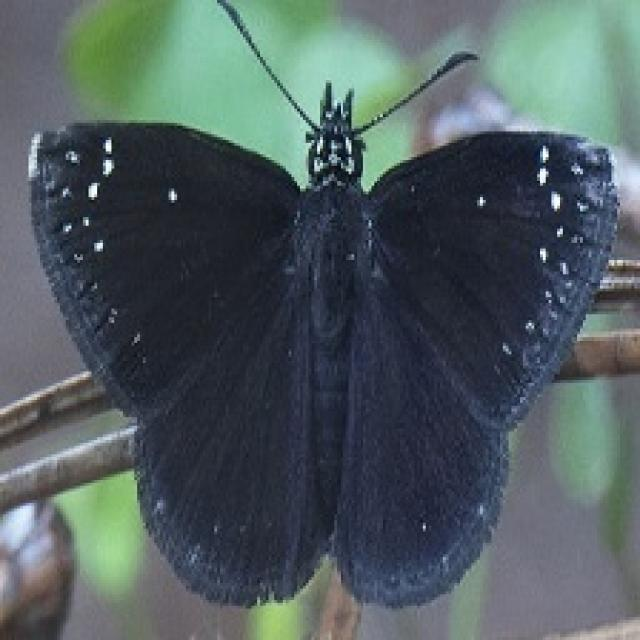butterfly: (23, 0, 620, 609)
